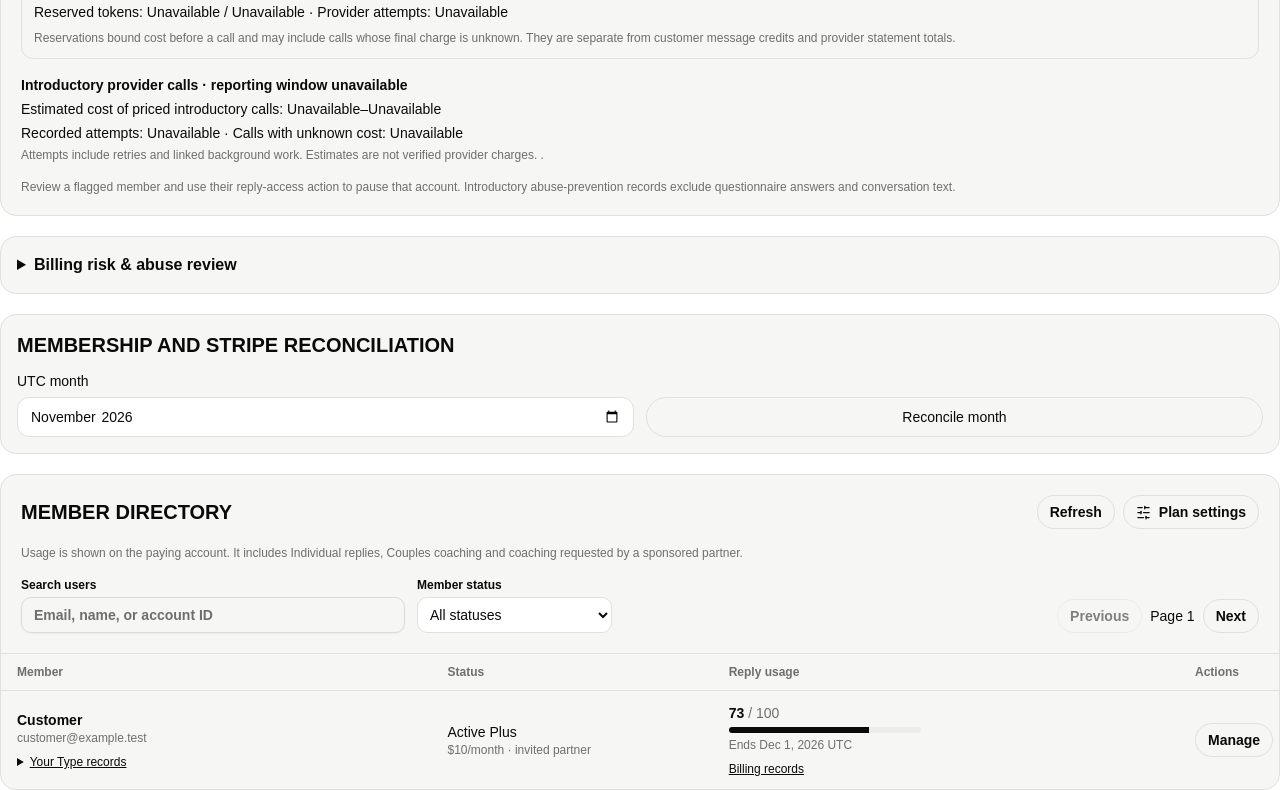
Test: shows account-wide totals above paged, filtered current-period usage
(page scrolled)
expect the progress indicator named "Monthly replies used" holds "73": met, box [729,727,921,733]
Click the button "Next" at (1231, 616), box [1203,599,1259,633]
Wait 200 ms
(page scrolled)
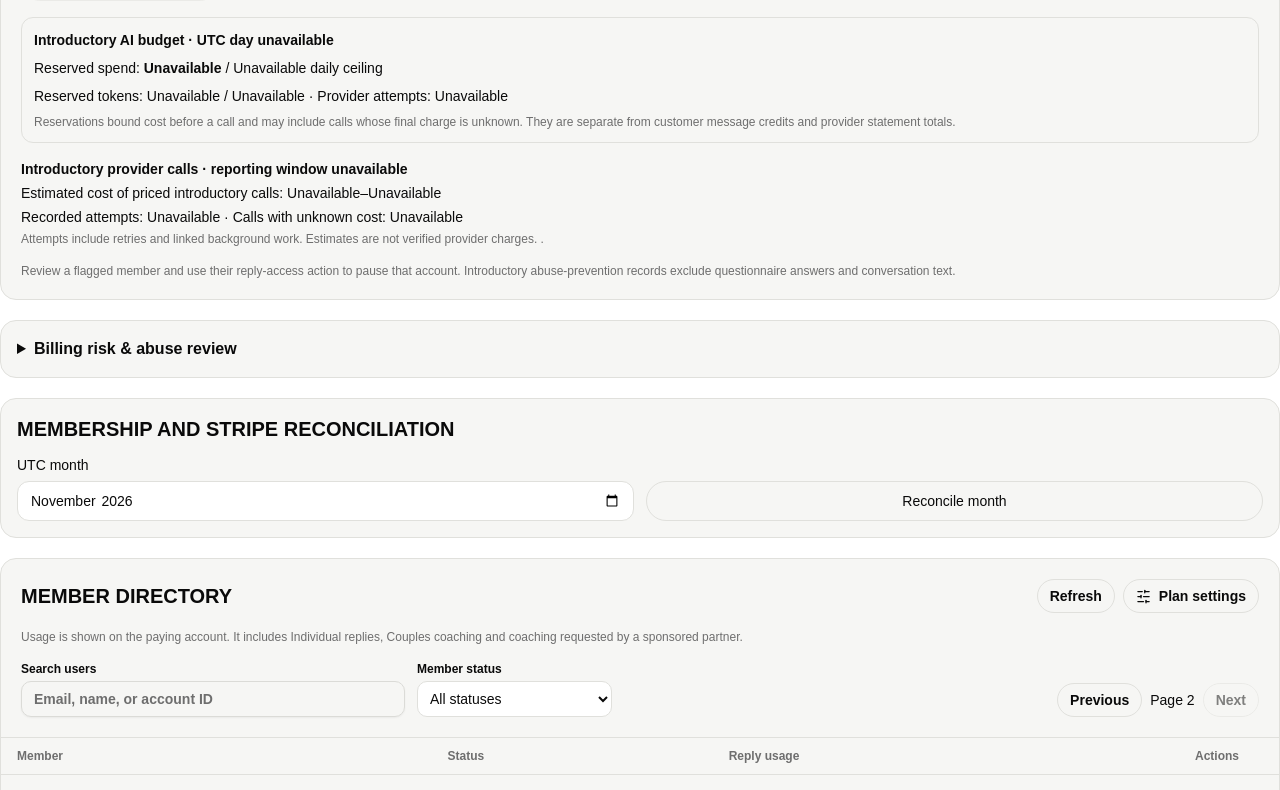
Select "Expired" in the dropdown labelled "Member status" at (514, 699), box [417,681,612,717]
Wait 200 ms
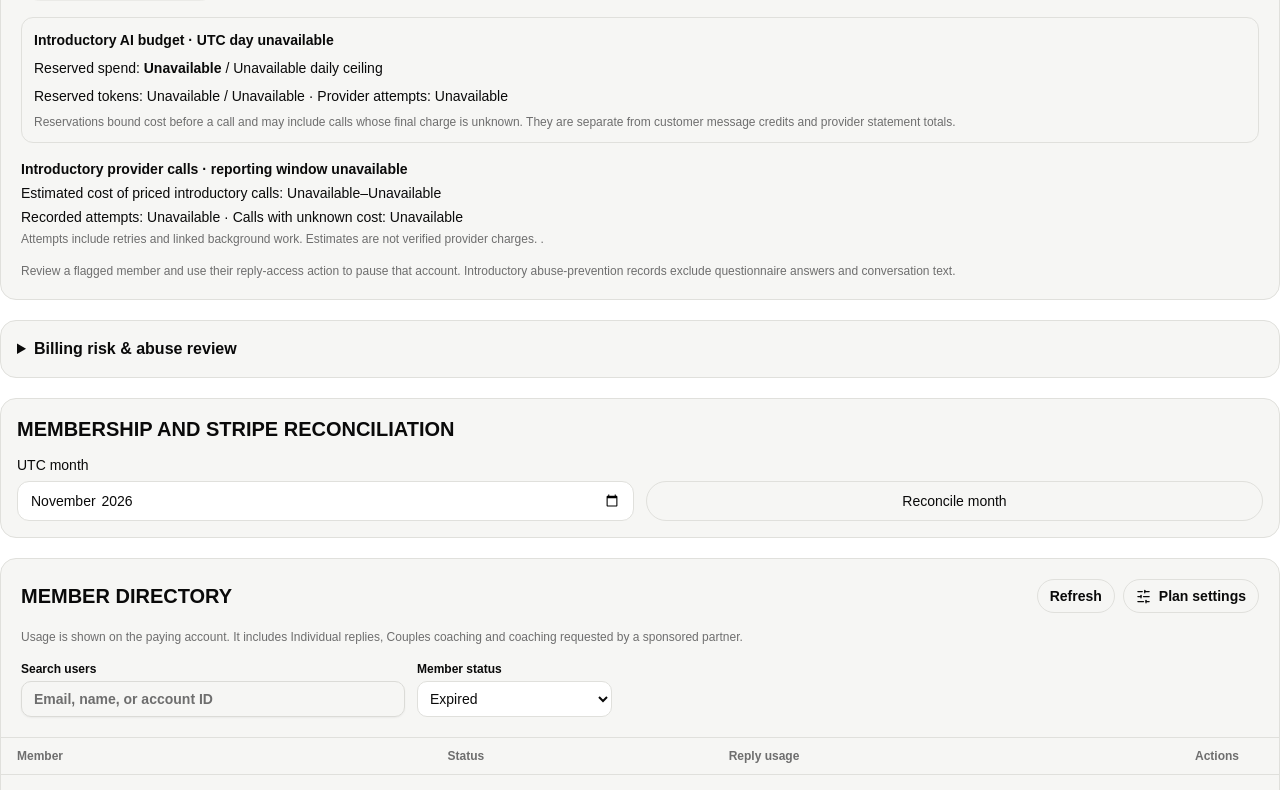
Click the button "Plan settings" at (1191, 596), box [1123,579,1259,613]
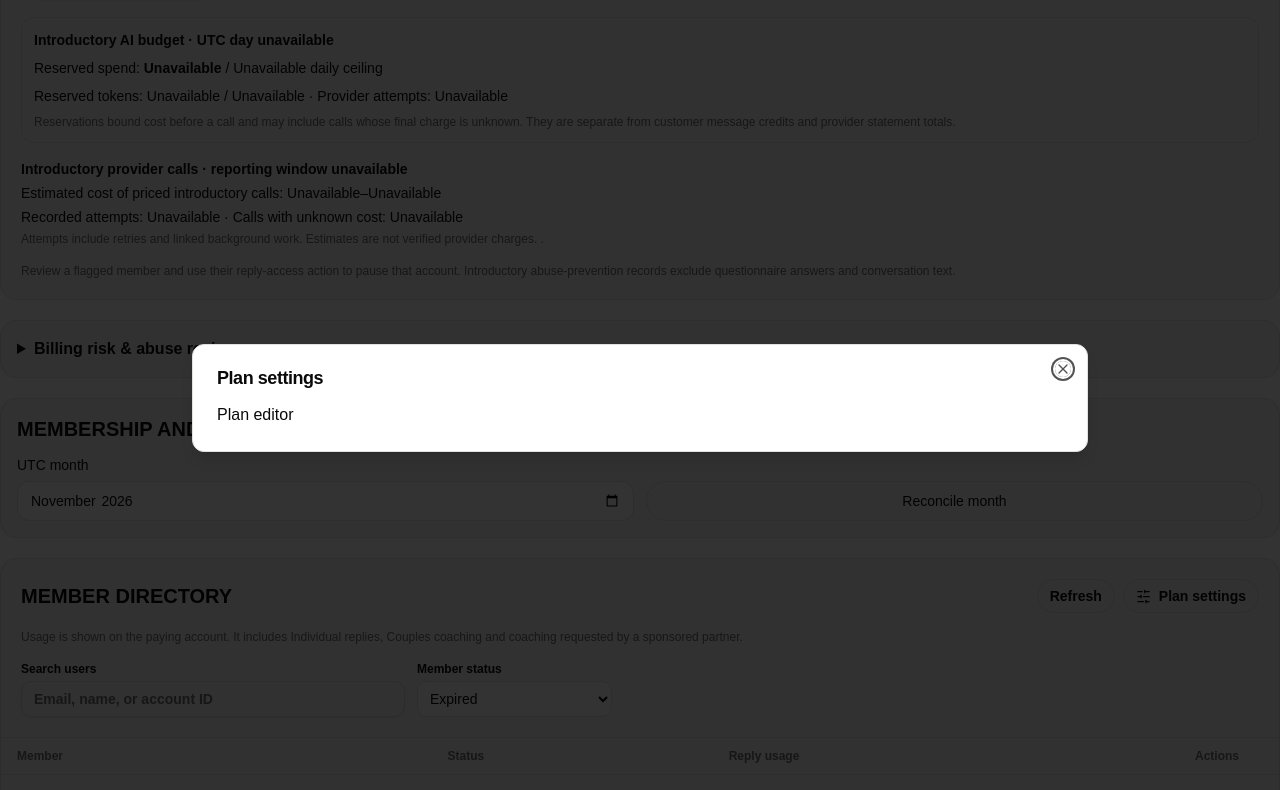
expect the dialog shows "Plan editor": met, box [217,406,294,423]
